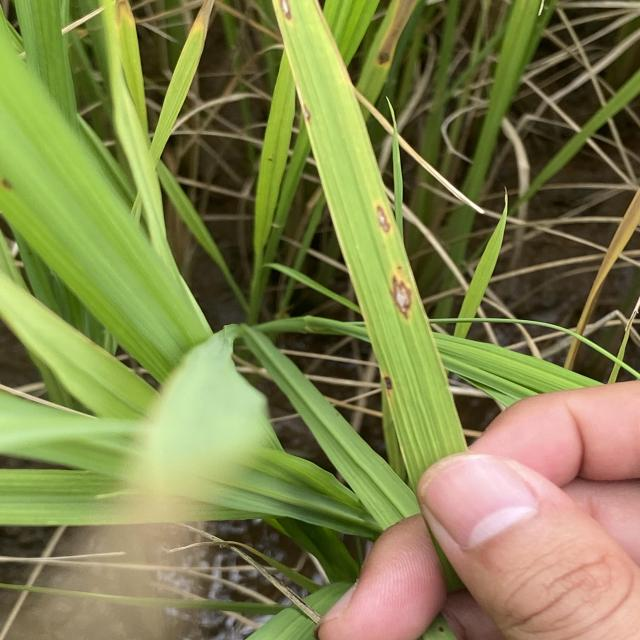Dao on: (390, 266, 412, 320), (376, 205, 392, 233)
